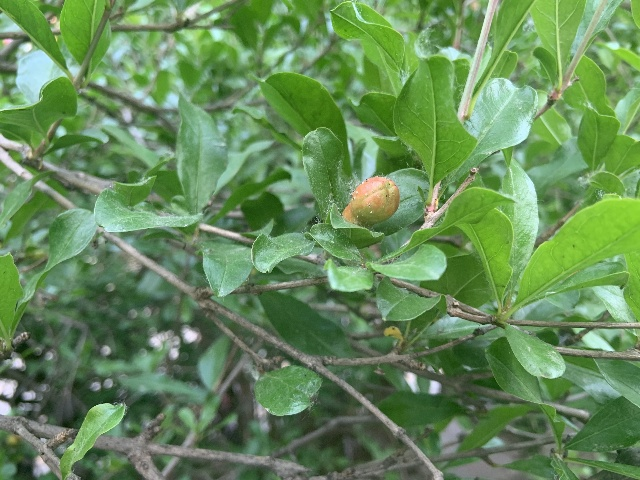bud: (343, 176, 400, 228)
